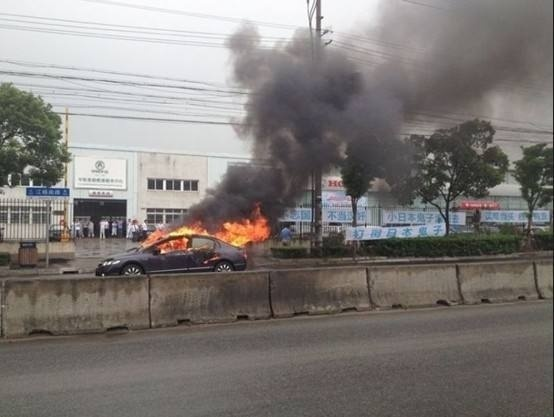fire: (145, 208, 277, 253)
